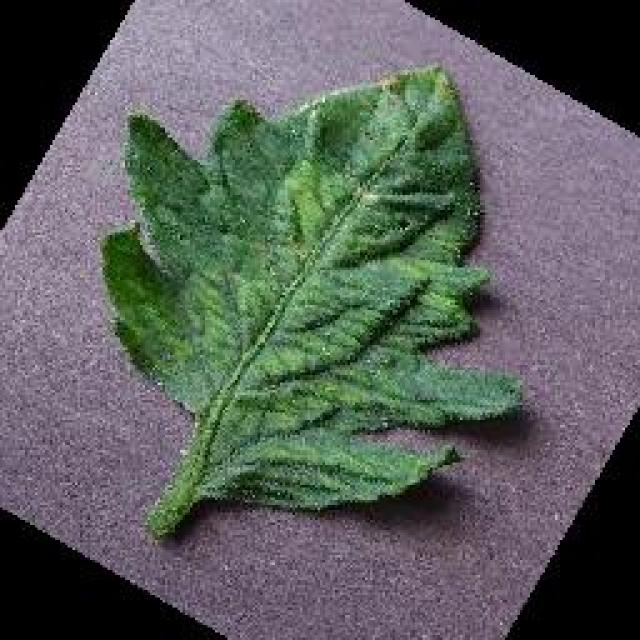Tomato___Tomato_mosaic_virus: (102, 68, 515, 535)
